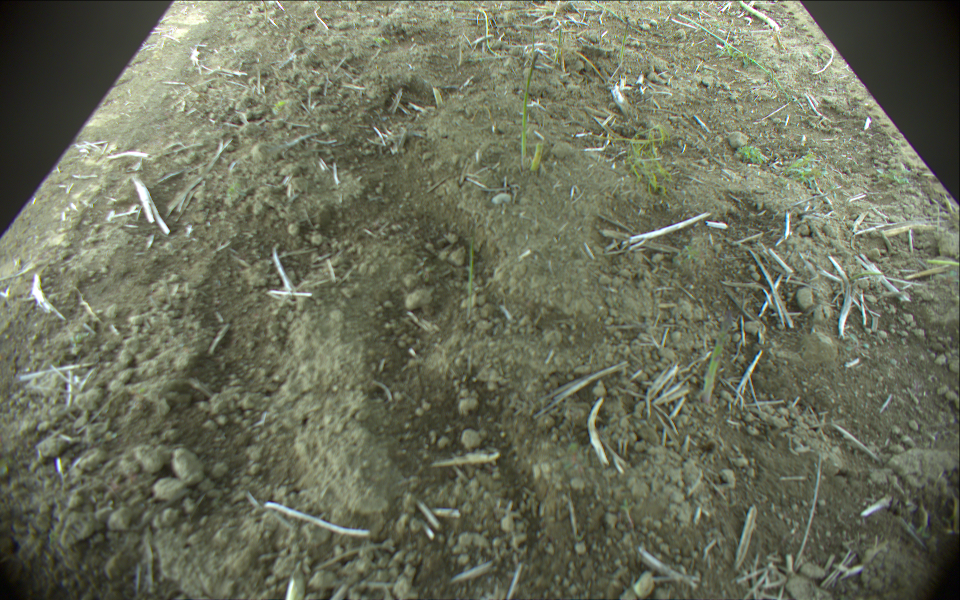aspa: (681, 14, 792, 100), (700, 312, 733, 407), (517, 50, 541, 163), (474, 5, 502, 59), (463, 239, 479, 322), (738, 1, 781, 31), (618, 19, 629, 64), (556, 27, 565, 64)
